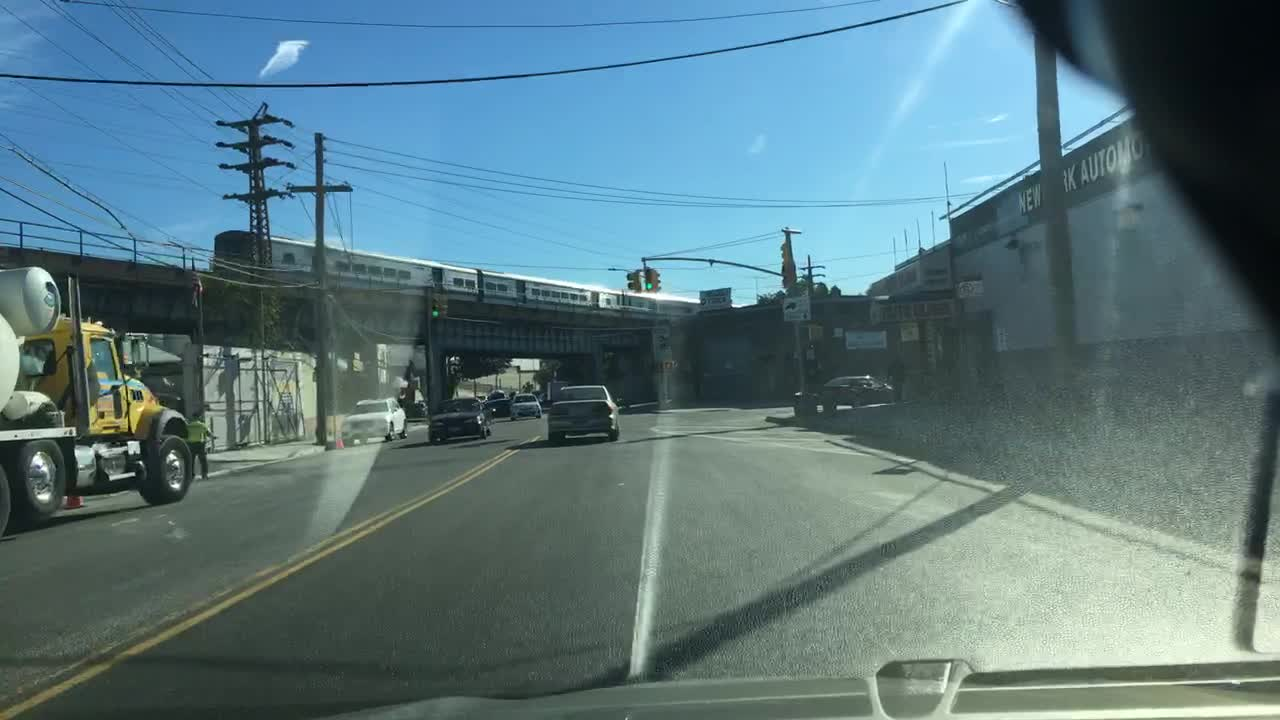car: (541, 381, 622, 444), (337, 394, 409, 447), (425, 394, 494, 445), (821, 371, 895, 413), (507, 390, 544, 421), (394, 396, 420, 422), (482, 398, 513, 419), (413, 400, 429, 418), (484, 387, 503, 402), (532, 387, 547, 406)
person: (182, 409, 217, 482)
traffic light: (778, 241, 792, 274), (625, 267, 643, 292), (806, 324, 824, 344), (651, 267, 663, 292), (439, 294, 449, 317), (429, 295, 439, 317), (644, 267, 653, 291)
traffic sign: (648, 325, 671, 362), (782, 293, 812, 321), (957, 279, 984, 297)
train: (203, 225, 702, 315)
truck: (0, 262, 194, 548), (544, 379, 569, 411)
